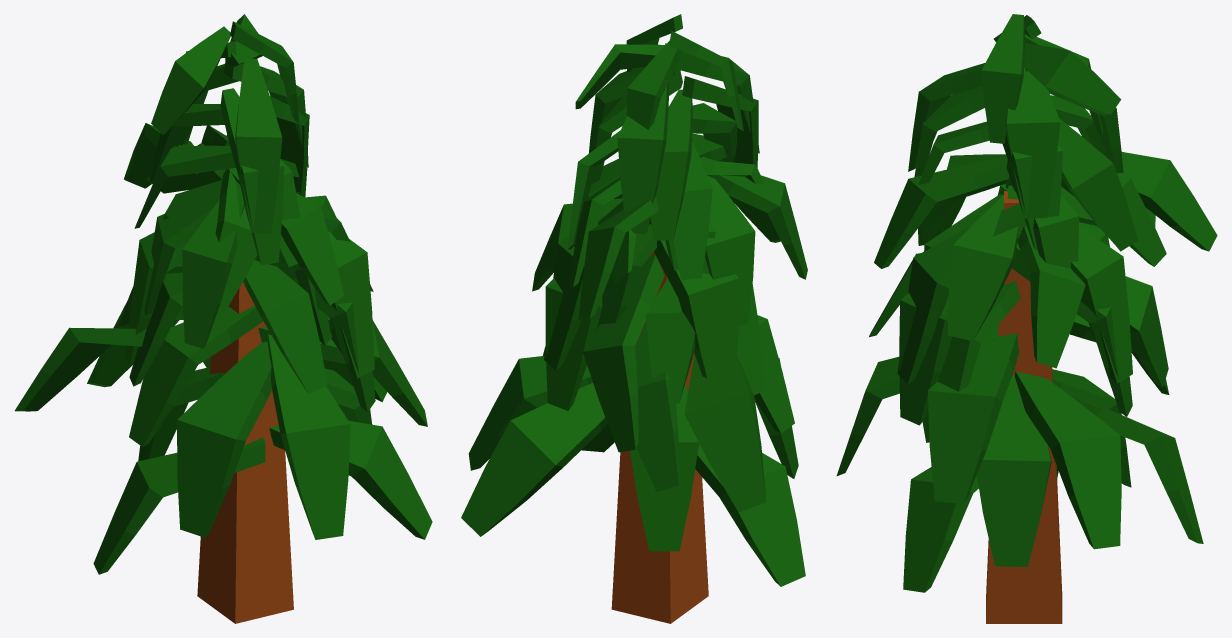
The model's file is tree2.glb.
The picture shows the model from 3 angles, left to right: view 1: azimuth 30°, elevation 25°; view 2: azimuth 150°, elevation 25°; view 3: azimuth 270°, elevation 25°; orthographic projection.
Visible parts, largest first — view 1: 立方体.006, 立方体.001, Cube; view 2: 立方体.006, 立方体.001, Cube; view 3: 立方体.006, 立方体.001, Cube.
Part boxes in pixels (x1=…): 立方体.006: x1=14, y1=143, x2=432, y2=574; 立方体.001: x1=119, y1=14, x2=373, y2=393; Cube: x1=197, y1=282, x2=293, y2=623; 立方体.006: x1=461, y1=158, x2=805, y2=586; 立方体.001: x1=532, y1=14, x2=807, y2=403; Cube: x1=611, y1=252, x2=708, y2=623; 立方体.006: x1=836, y1=154, x2=1203, y2=592; 立方体.001: x1=869, y1=14, x2=1217, y2=368; Cube: x1=986, y1=190, x2=1062, y2=623.
Bounding box in the file's own units: 9.87 × 17.03 × 10.
